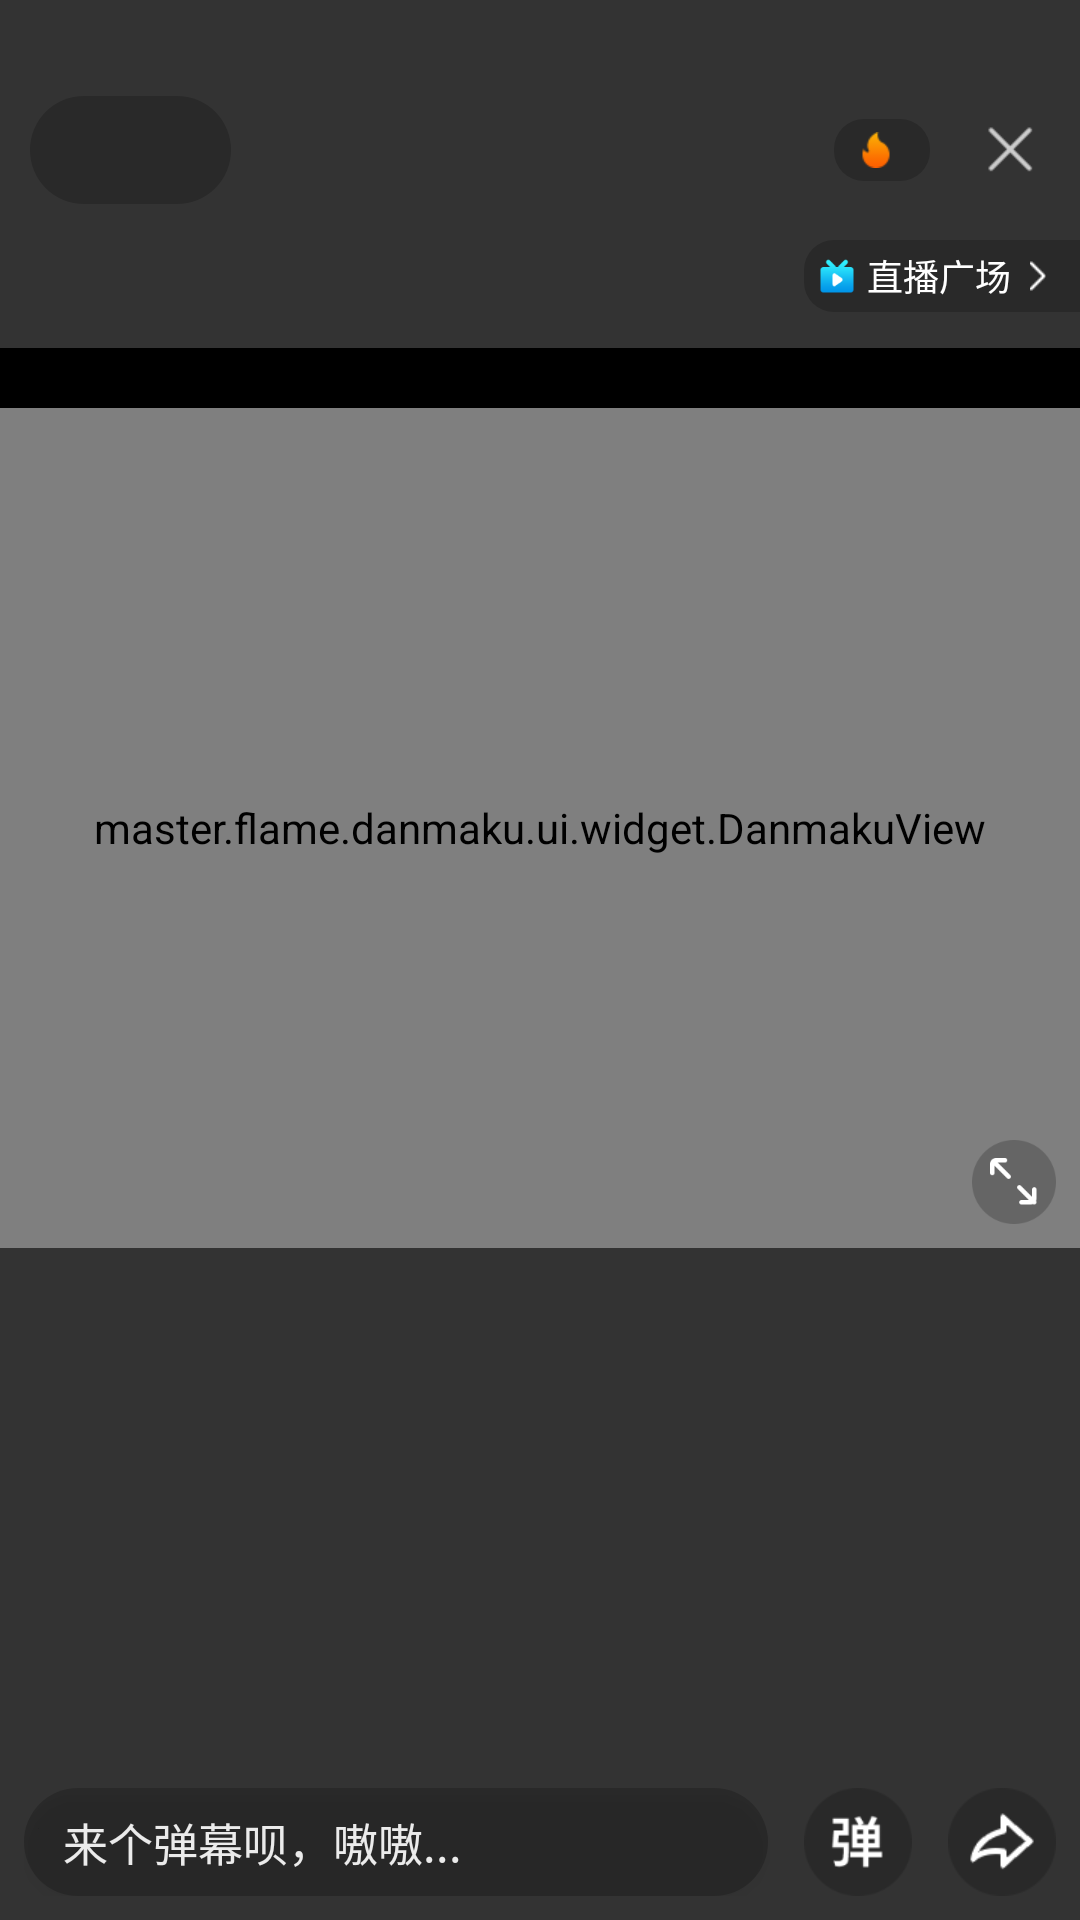

Named icons in this screenshot (1080 x 1920) and their centers, [x,y]:
change landscape: [1014,1182]
close: [1010,149]
hot: [876,150]
landscape share: [1002,1842]
